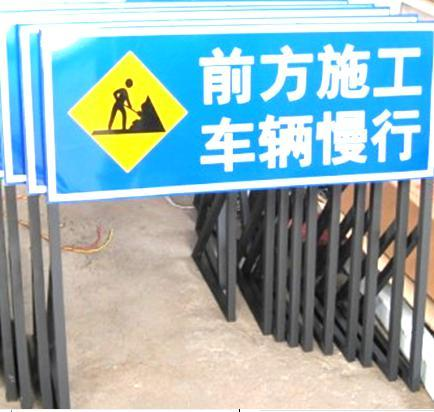sign: (31, 26, 434, 203)
